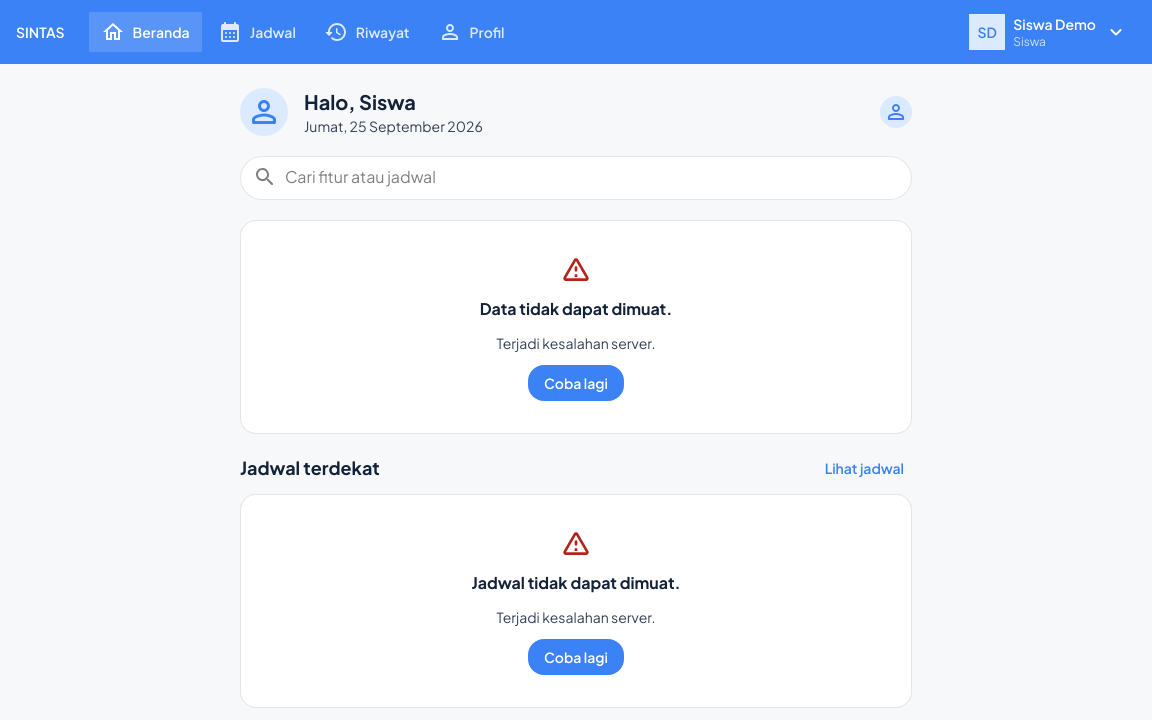
Test case: dashboard siswa › menampilkan error jadwal dan bisa dimuat ulang
The image size is (1152, 720).
Expected: the heading "Jadwal tidak dapat dimuat." is shown, x1=471 y1=571 x2=681 y2=595
Click the button "Coba lagi" below "Data tidak dapat dimuat." at (576, 383), box x1=528 y1=365 x2=624 y2=401
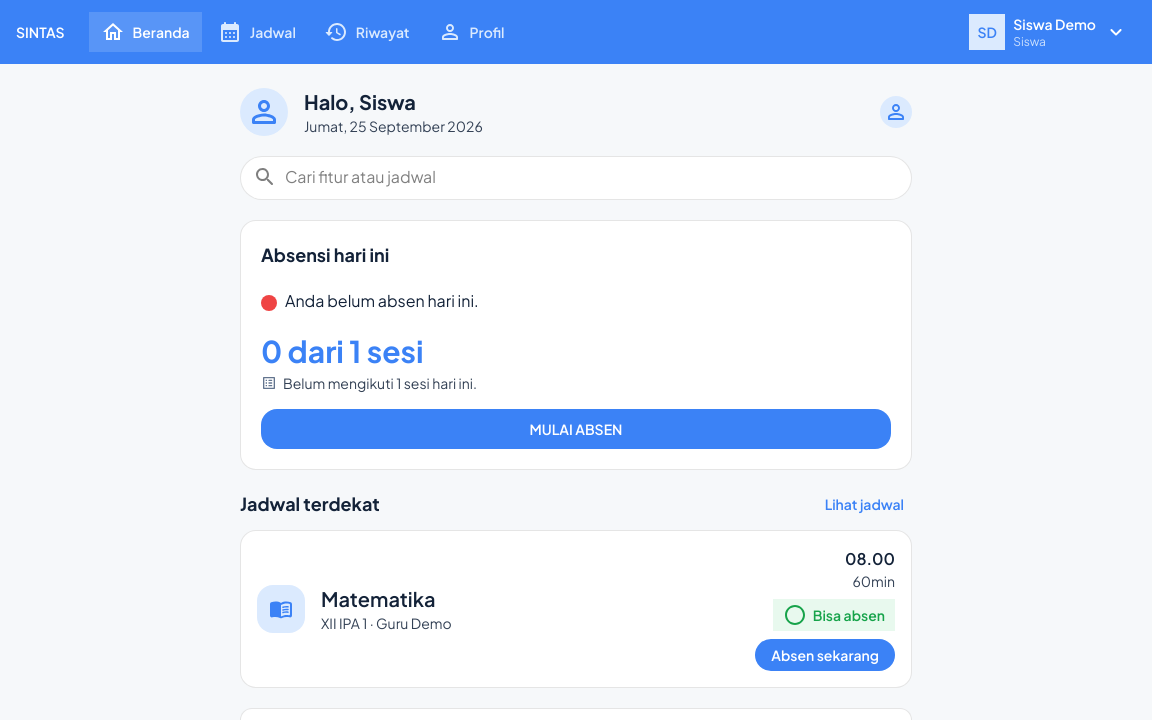
Now the text "Matematika" is shown, box x1=321 y1=584 x2=452 y2=612
